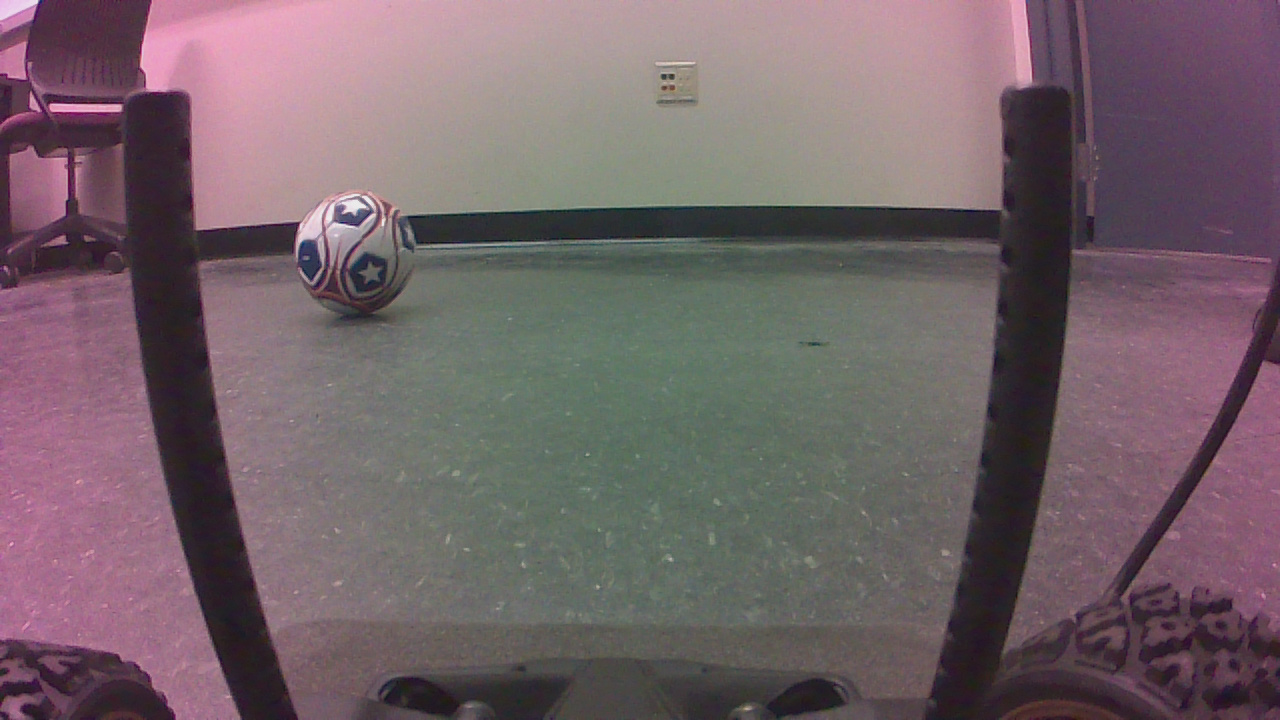ball: (298, 194, 427, 324)
